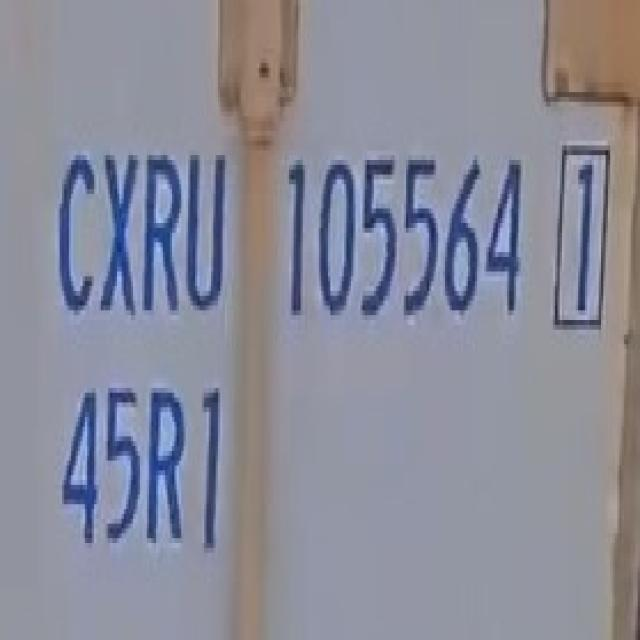dv: (546, 139, 616, 343)
owner: (51, 136, 232, 334)
serial: (284, 128, 527, 336)
size: (46, 350, 231, 567)
